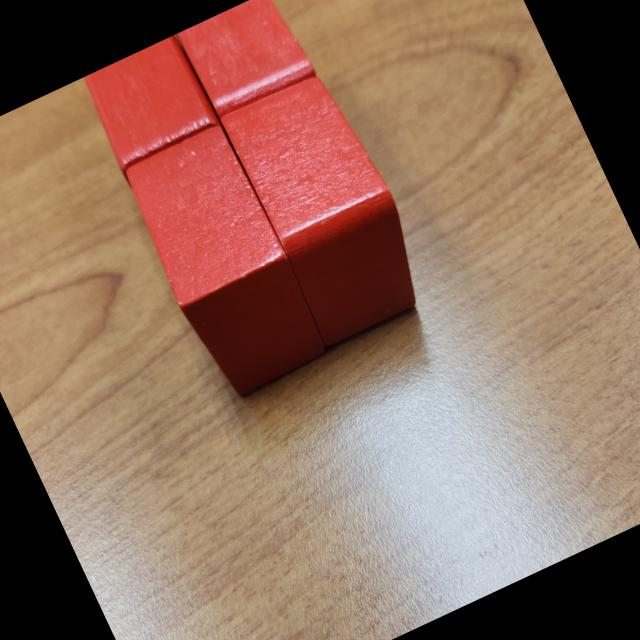red: (218, 62, 442, 353), (117, 122, 334, 410), (74, 33, 232, 195), (175, 0, 317, 121)
